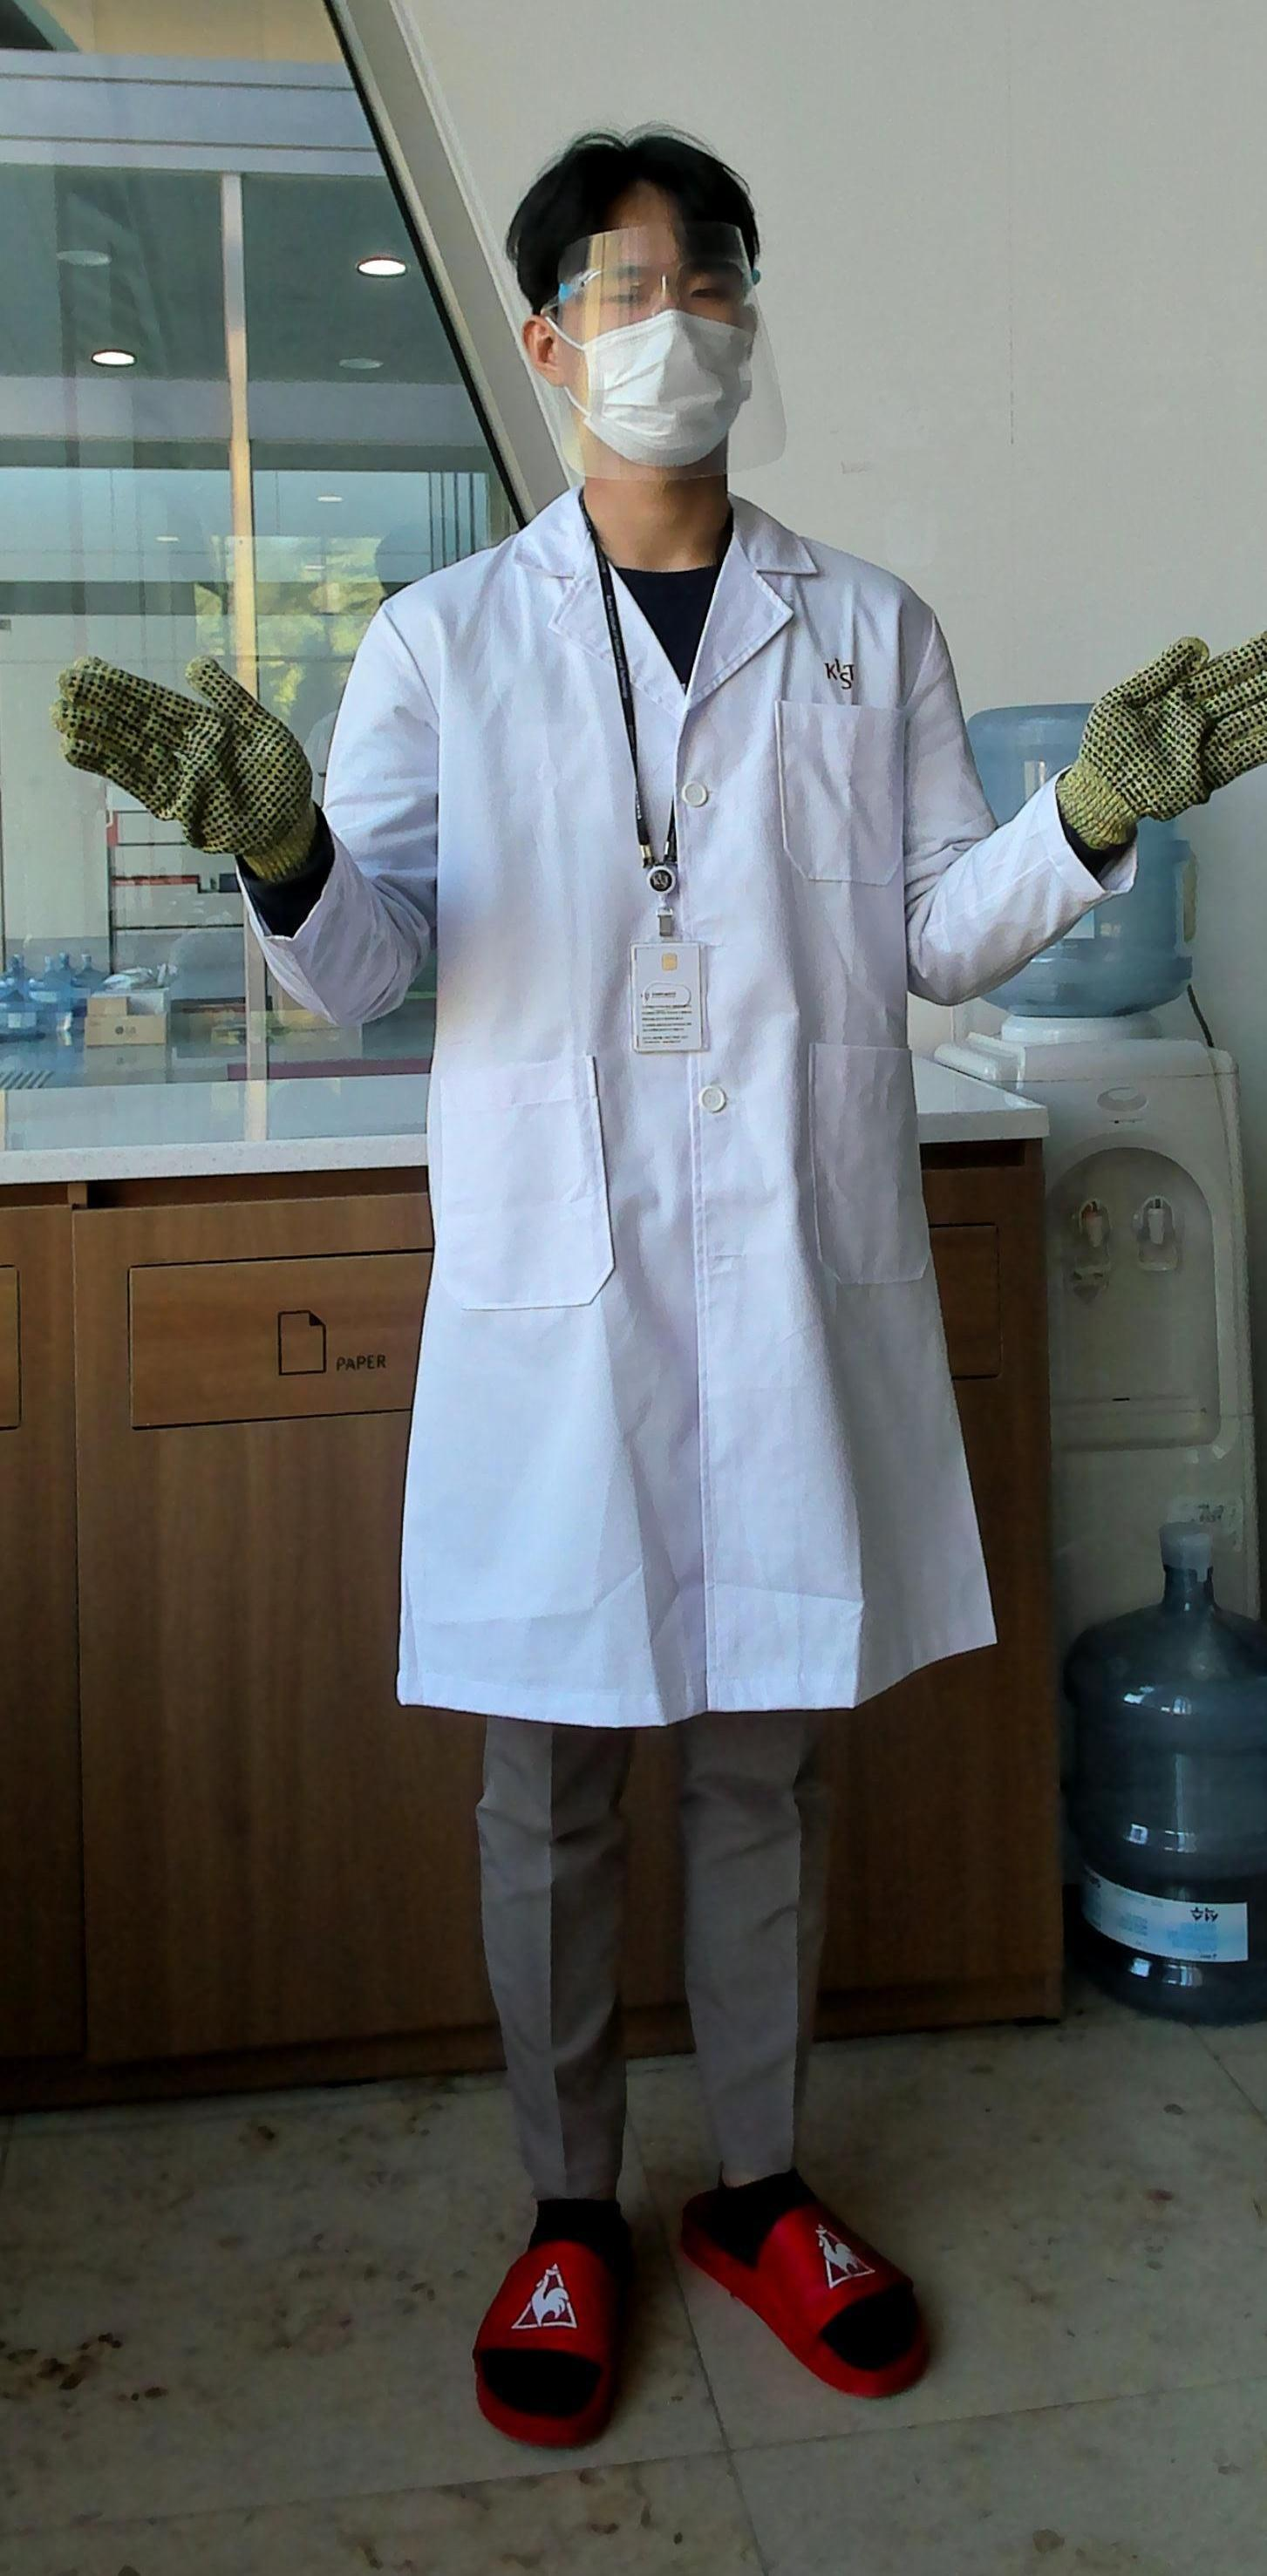lab_coat: (332, 559, 1035, 1720)
